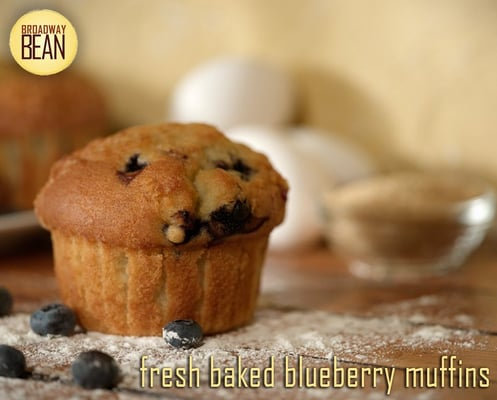salad: (320, 167, 496, 277)
sushi: (33, 122, 290, 342)
